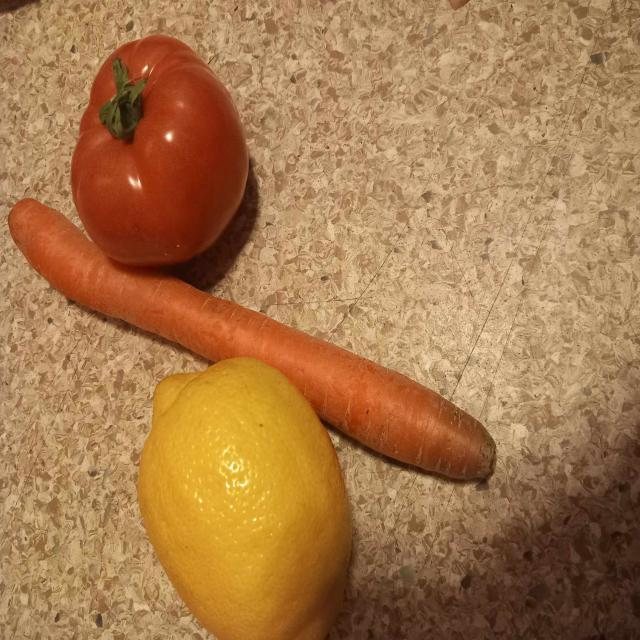carrot: (9, 198, 495, 480)
lemon: (139, 358, 351, 638)
tomato: (71, 35, 249, 267)
